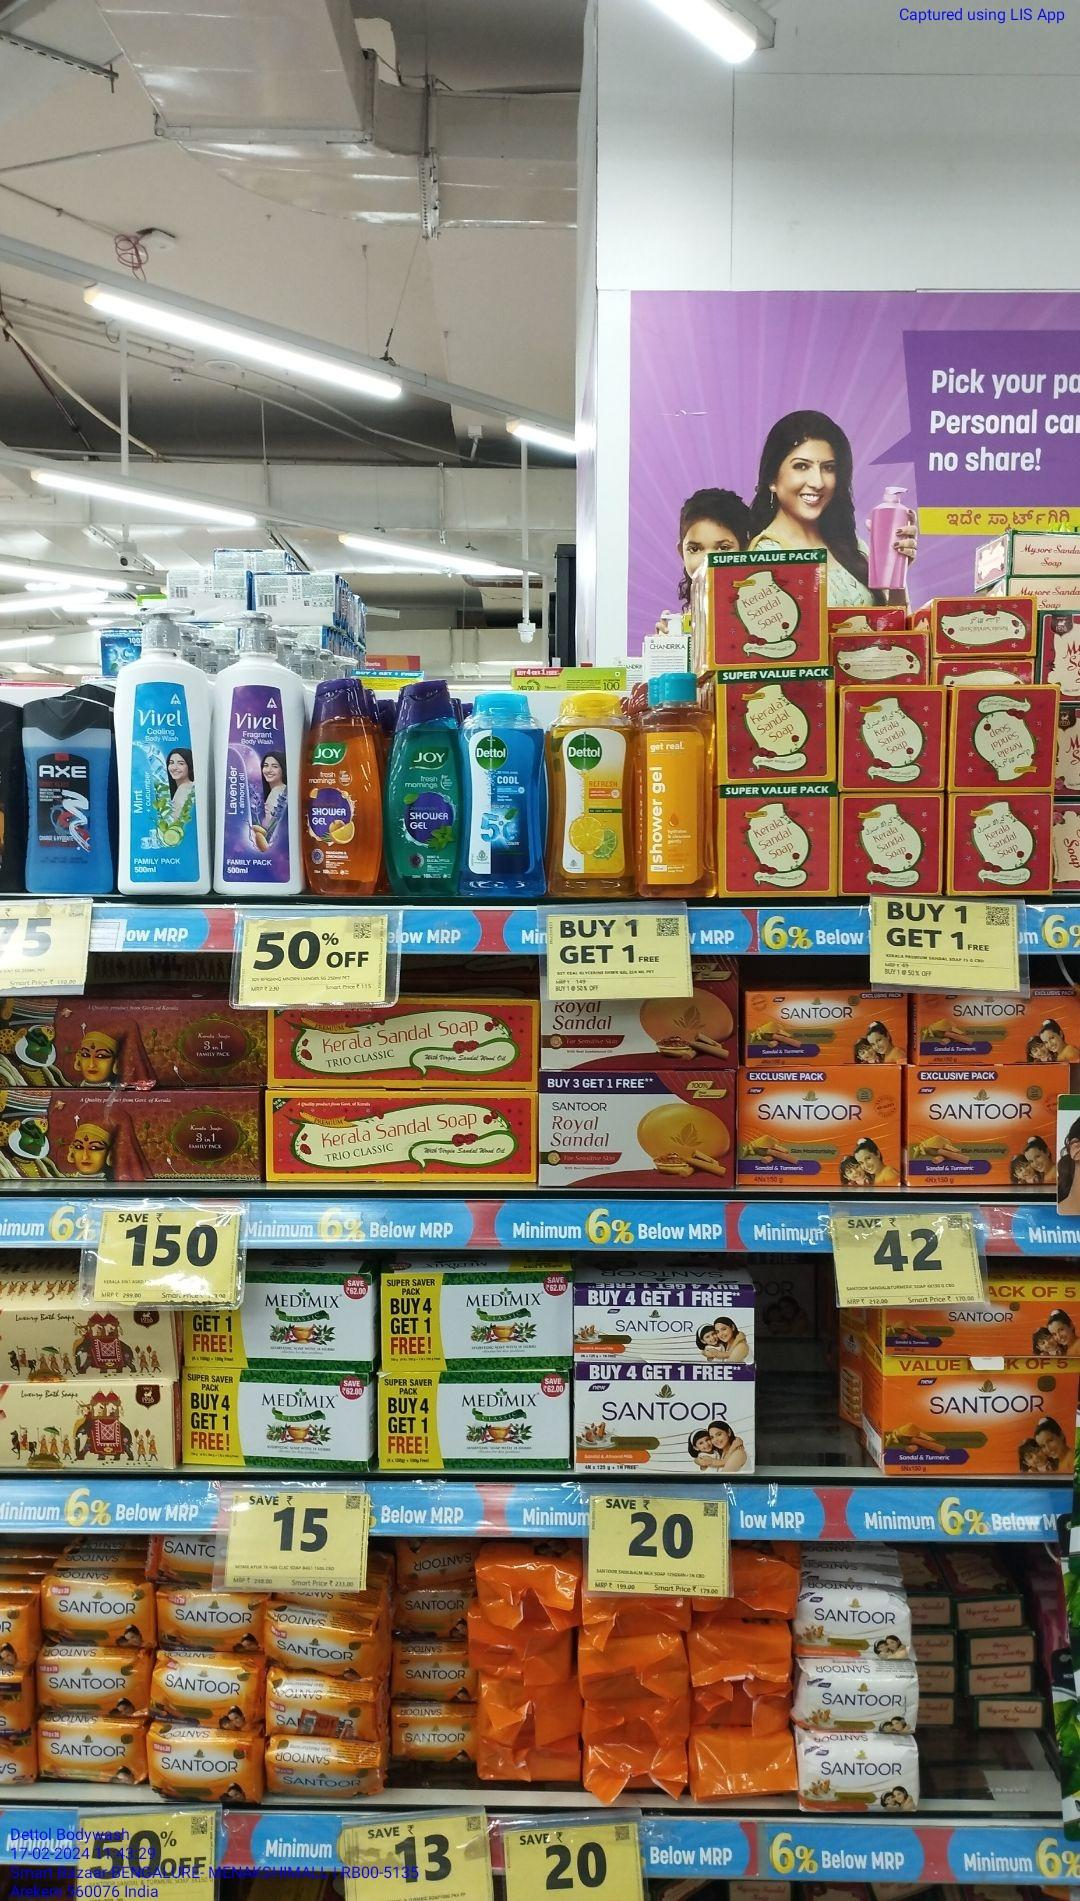Dettol_Bodywash_Cool: (466, 691, 542, 897)
Dettol_Bodywash_Refresh: (551, 692, 635, 898)
Joy_Shower_Gel_Mandarin_and_Lemongrass_250ML: (307, 679, 384, 897)
Joy_Shower_Gel_Mint_and_Eucalyptus_250ML: (385, 682, 464, 894)
